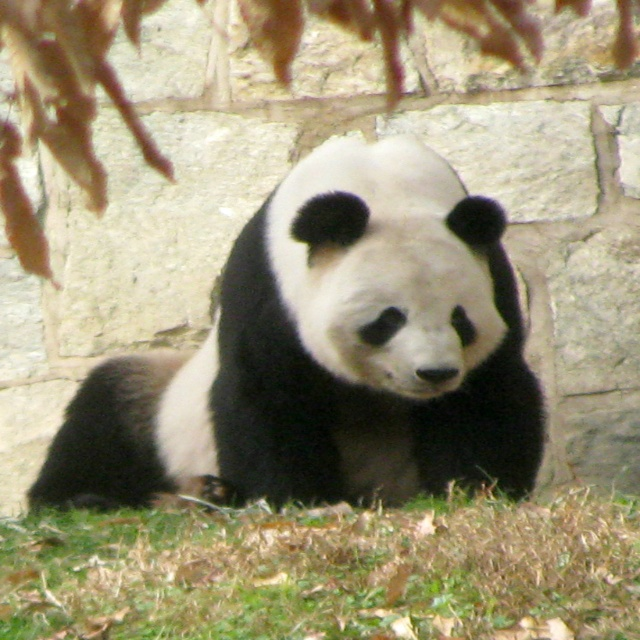Panda: (21, 121, 562, 530)
